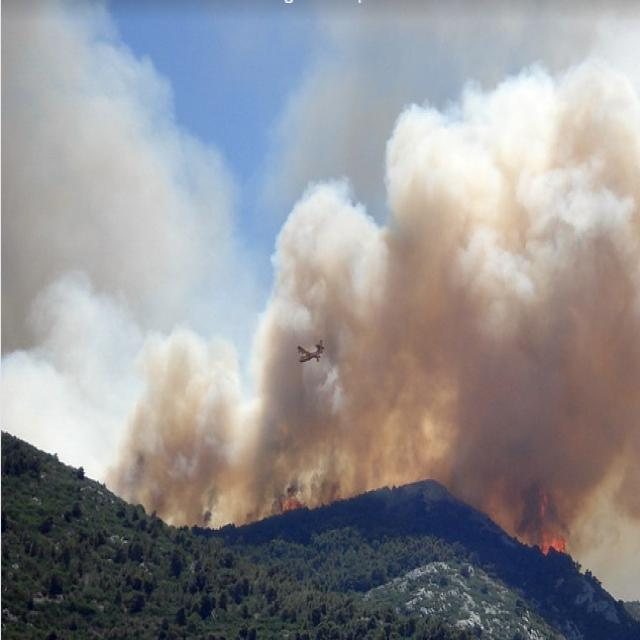Smoke: (358, 88, 640, 494), (2, 1, 134, 504), (269, 192, 357, 492), (134, 330, 268, 520), (134, 151, 236, 330)
